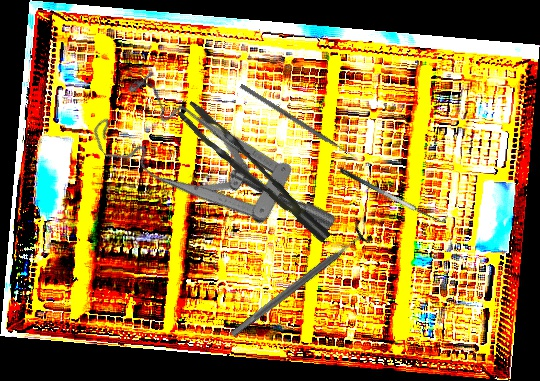Fixation Ring: (224, 219, 374, 345)
Pusher: (239, 83, 360, 162)
Spatula Surgical: (338, 158, 449, 230)
Speculum: (81, 39, 338, 309)
Tissue Forceps: (176, 87, 332, 261)
